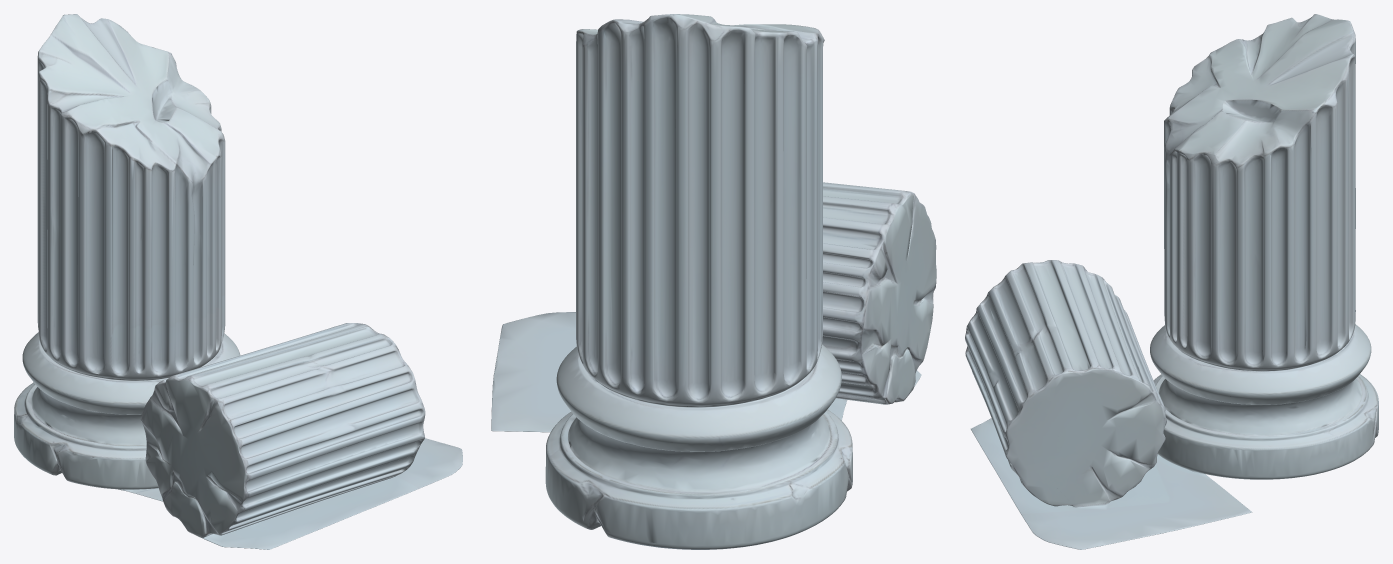
Rendered from prop_column_broken.glb.
3 renders of one model, left to right at view 1: azimuth 30°, elevation 25°; view 2: azimuth 150°, elevation 25°; view 3: azimuth 270°, elevation 25°, orthographic. The views are drawn at different scales.
Visible parts, largest first — view 1: material; view 2: material; view 3: material.
Boxes of the visible parts, x1,y1,x2,y2 form: material: (14, 14, 462, 549); material: (491, 14, 936, 549); material: (965, 14, 1378, 549).
Bounding box in the file's own units: 0.7353 × 0.8284 × 0.774.
Materials: 1 (1 with a texture image).
